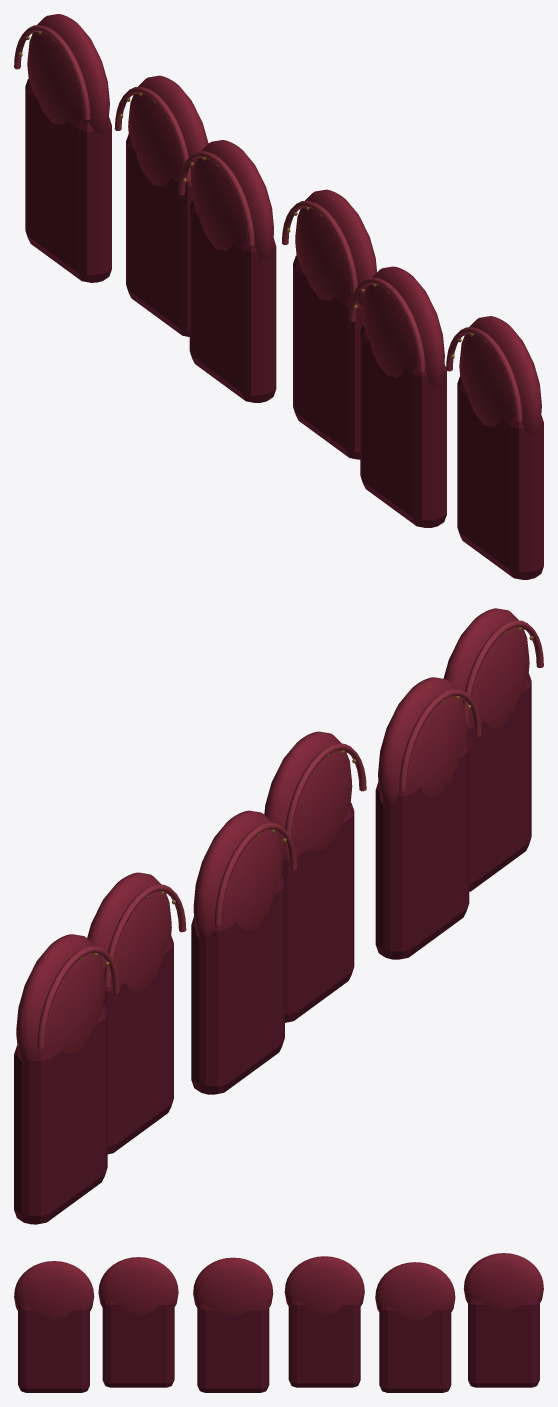
File: SM_Menu_AudienceSilhouettes.fbx
3 views of the same model, one above another, from view 1: azimuth 30°, elevation 25°; view 2: azimuth 150°, elevation 25°; view 3: azimuth 270°, elevation 25° (orthographic). The views are drawn at different scales.
Parts seen in each view (by area): view 1: SM_Menu_AudienceSilhouettes; view 2: SM_Menu_AudienceSilhouettes; view 3: SM_Menu_AudienceSilhouettes.
Part boxes in pixels (<box>): SM_Menu_AudienceSilhouettes: <box>14,14,543,579</box>; SM_Menu_AudienceSilhouettes: <box>14,608,543,1224</box>; SM_Menu_AudienceSilhouettes: <box>14,1253,543,1392</box>.
Bounding box in the file's own units: 36 × 515 × 143.
